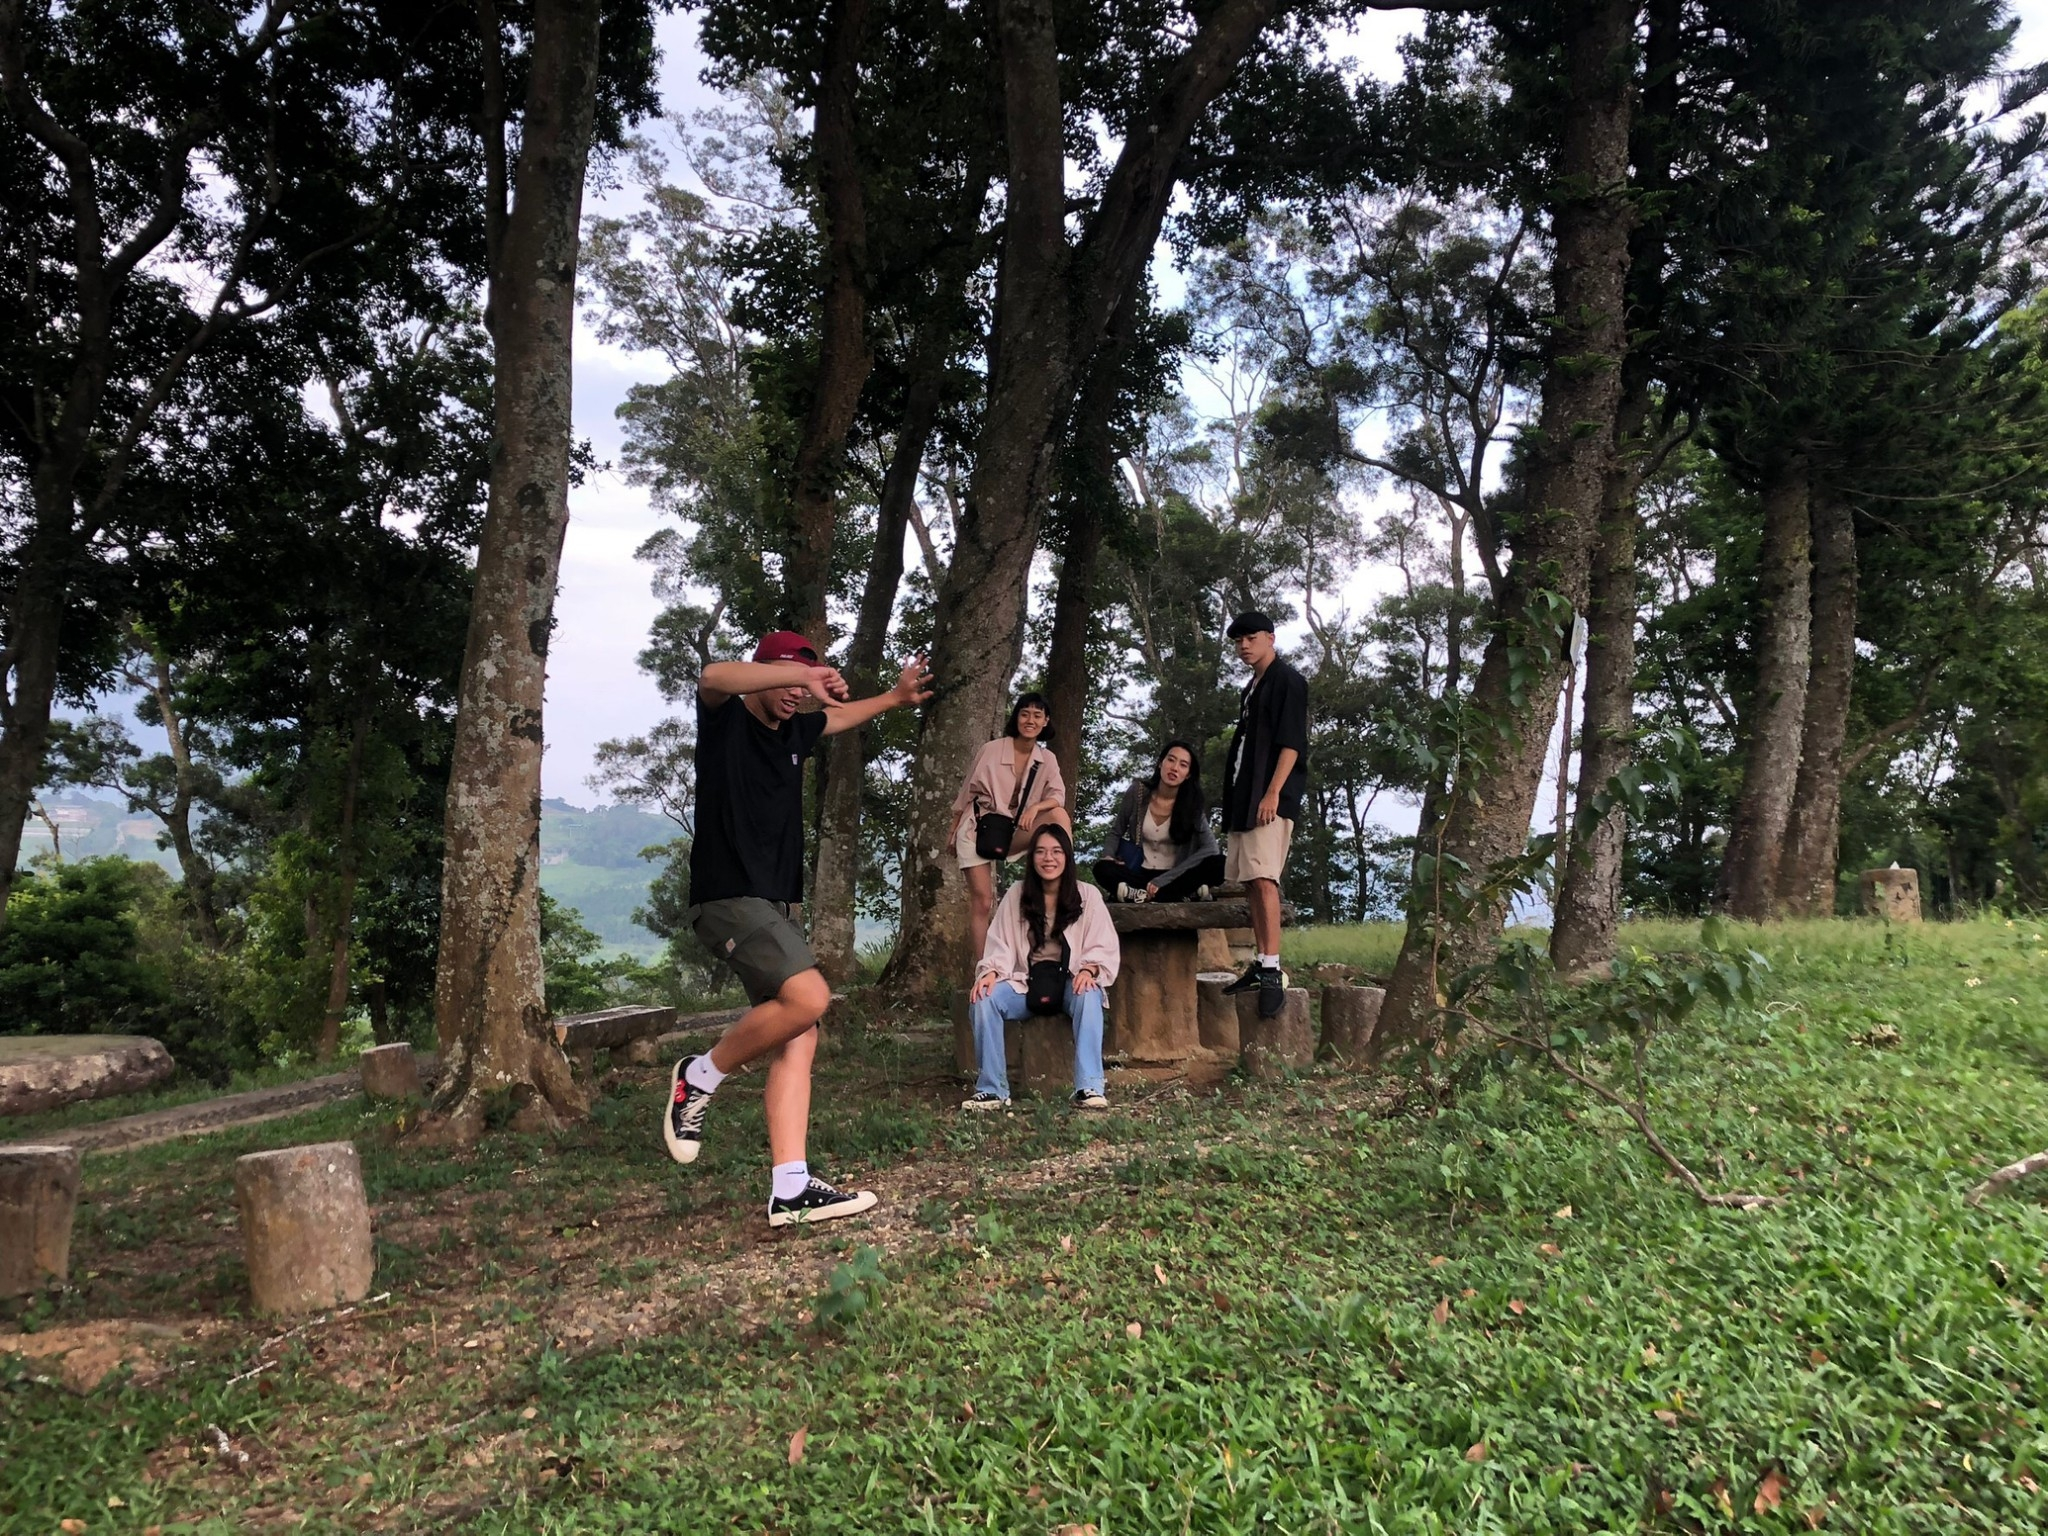people: (690, 631, 887, 1216), (996, 843, 1116, 1108), (1228, 622, 1299, 993), (984, 693, 1069, 940), (1134, 746, 1204, 899)
